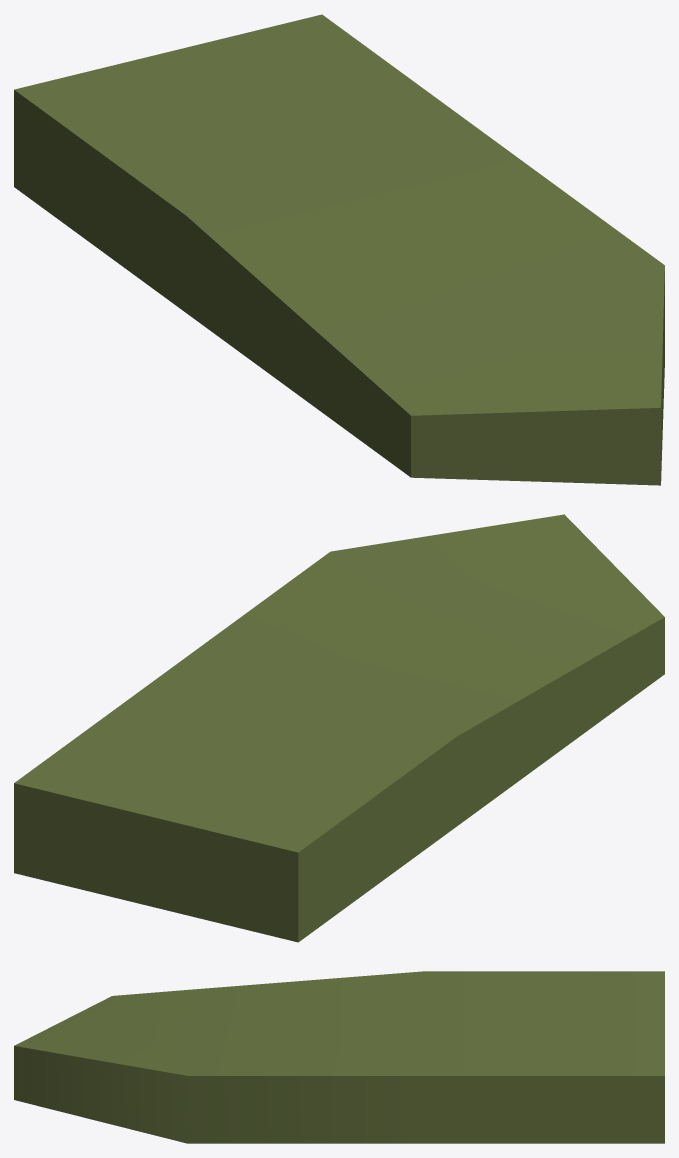
File: ground_02.fbx
The picture shows the model from 3 angles, top to bottom: view 1: azimuth 30°, elevation 25°; view 2: azimuth 150°, elevation 25°; view 3: azimuth 270°, elevation 25°; orthographic projection. The views are drawn at different scales.
Parts seen in each view (by area): view 1: ground_02; view 2: ground_02; view 3: ground_02.
Part boxes in pixels (x1,y1,x2,y2): ground_02: (14, 14, 664, 485); ground_02: (14, 514, 664, 942); ground_02: (14, 971, 664, 1143).
Bounding box in the file's own units: 8.11 × 2.45 × 21.32.
